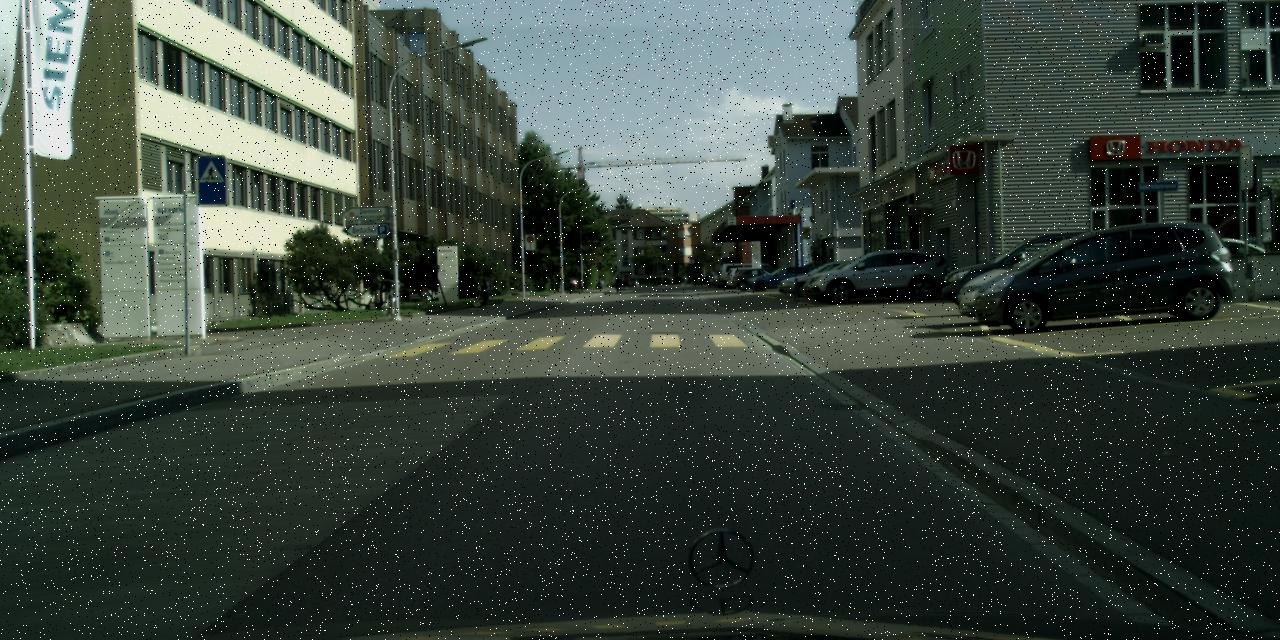ped: (612, 272, 620, 292), (692, 273, 696, 285), (682, 275, 686, 284)
